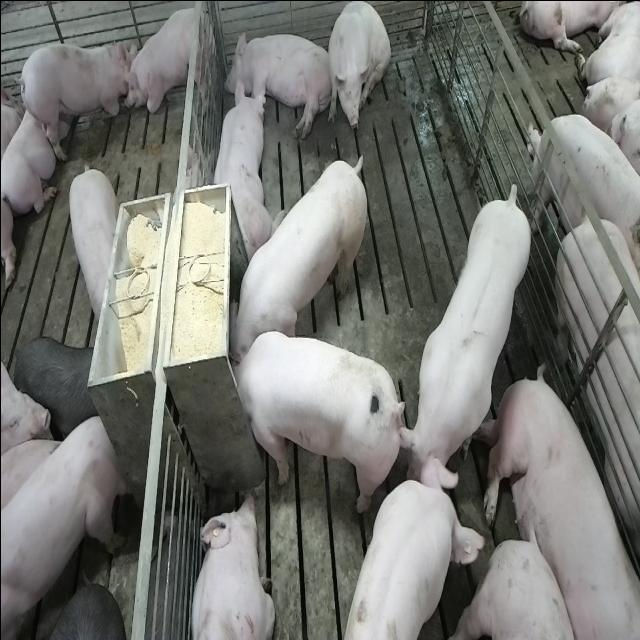Feeding: (220, 330, 397, 514), (229, 145, 371, 361)
Lateral_lying: (478, 366, 636, 640), (222, 26, 332, 140)
Sitting: (128, 0, 218, 127), (324, 3, 390, 137)
Standing: (395, 183, 532, 500), (551, 207, 640, 578), (1, 408, 126, 636), (337, 475, 482, 640), (528, 106, 640, 262), (20, 34, 132, 158), (13, 332, 99, 442), (63, 158, 117, 322)
Sternal_lying: (188, 489, 275, 640), (208, 76, 280, 258), (2, 86, 62, 212)
